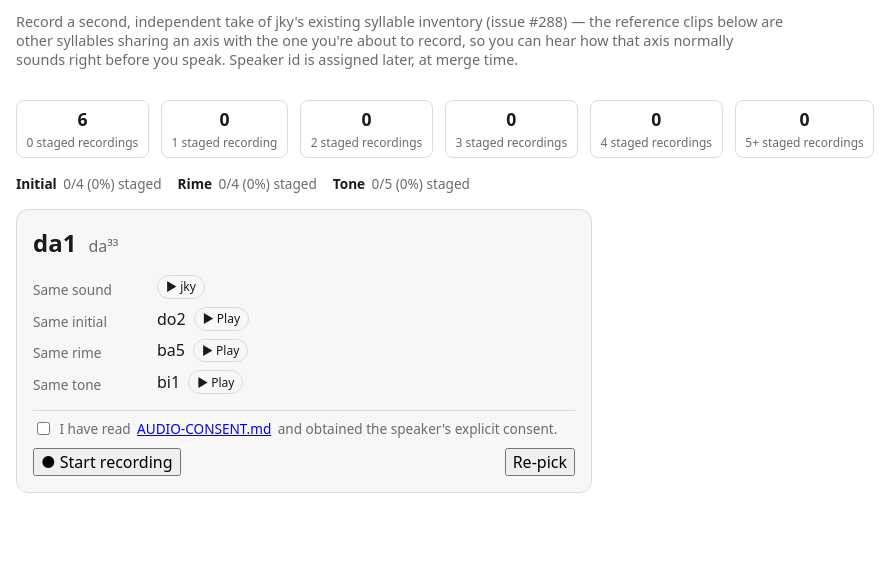
Test case: ElicitationView › records and stages a take without a speaker field in the request body
Expected: the text "da1" is shown, [33,226,76,259]
Click the button "● Start recording": (107, 462) [33,448,180,476]
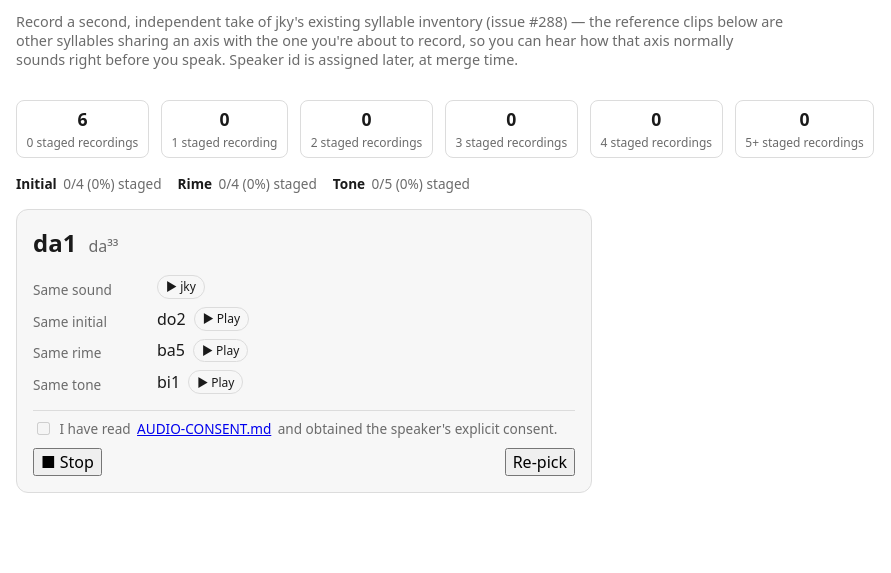
Expected: the button "■ Stop" is shown
Click the button "■ Stop": (67, 462) [33,448,102,476]
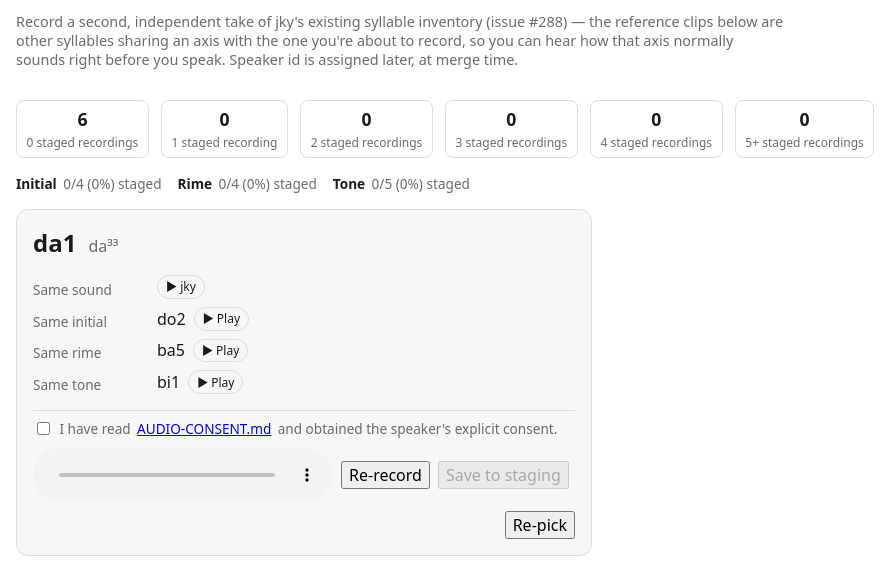
Expected: the button "Save to staging" is disabled, [438,461,569,489]
Click the checkbox labelled "AUDIO-CONSENT.md": (44, 429) [37,422,50,435]
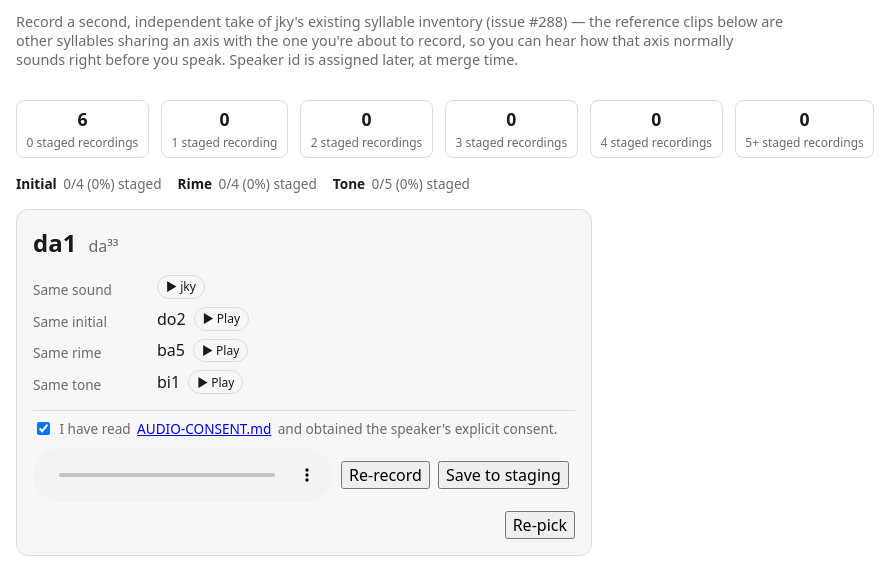
Click the button "Save to staging": (503, 475) [438,461,569,489]
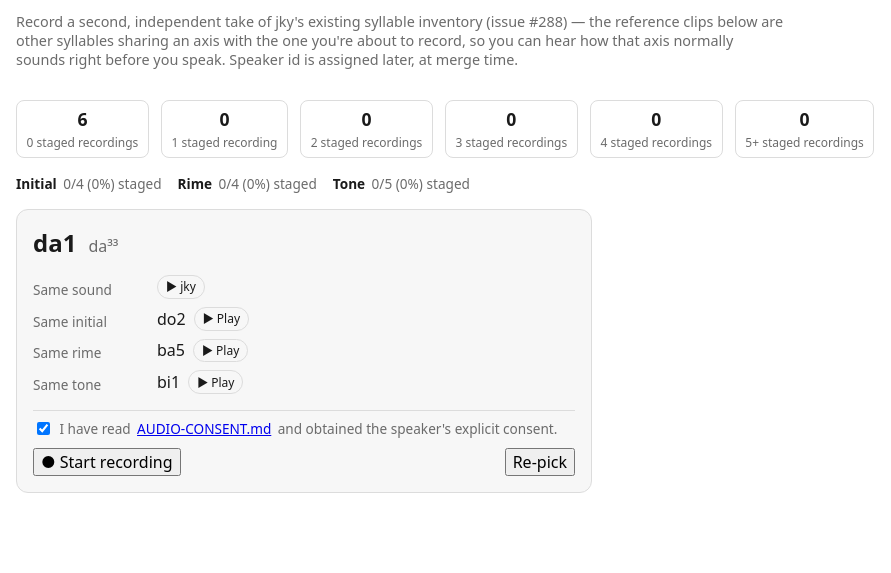
Expected: the button "● Start recording" is shown, [33,448,180,476]
